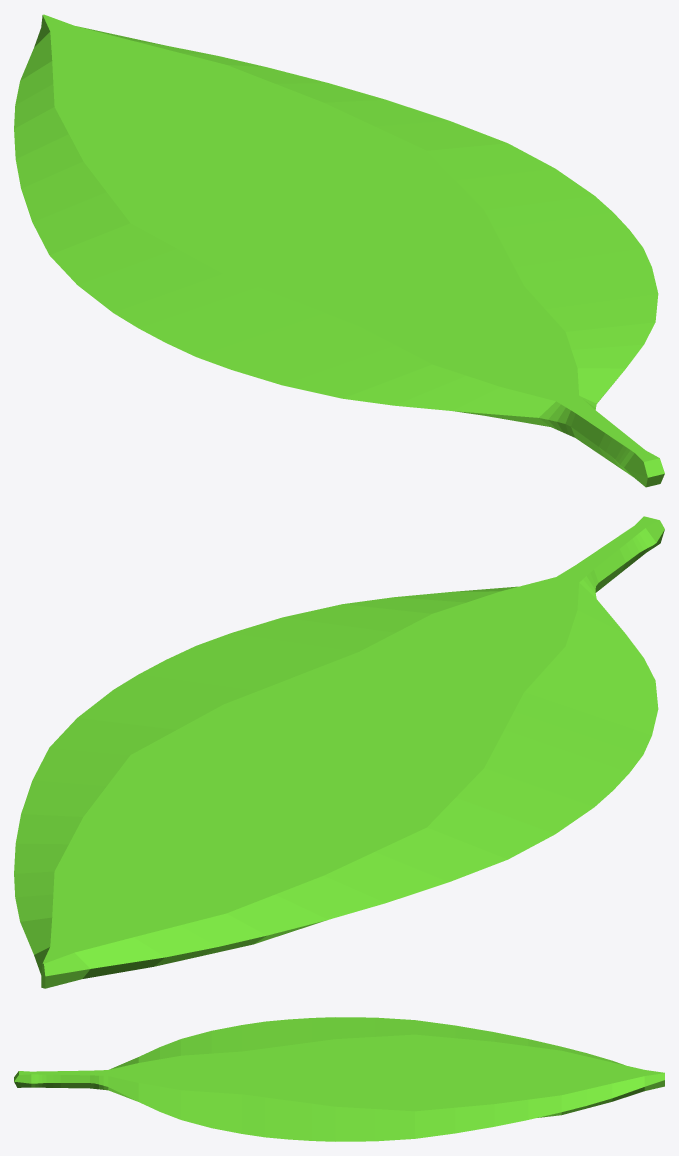
File: Leaf.glb
The picture shows the model from 3 angles, top to bottom: view 1: azimuth 30°, elevation 25°; view 2: azimuth 150°, elevation 25°; view 3: azimuth 270°, elevation 25°; orthographic projection. The views are drawn at different scales.
Parts seen in each view (by area): view 1: Plane; view 2: Plane; view 3: Plane.
Part boxes in pixels (x1=…): Plane: x1=14, y1=14, x2=664, y2=487; Plane: x1=14, y1=516, x2=664, y2=988; Plane: x1=14, y1=1017, x2=664, y2=1141.
Bounding box in the file's own units: 3.7 × 0.18 × 8.16.
